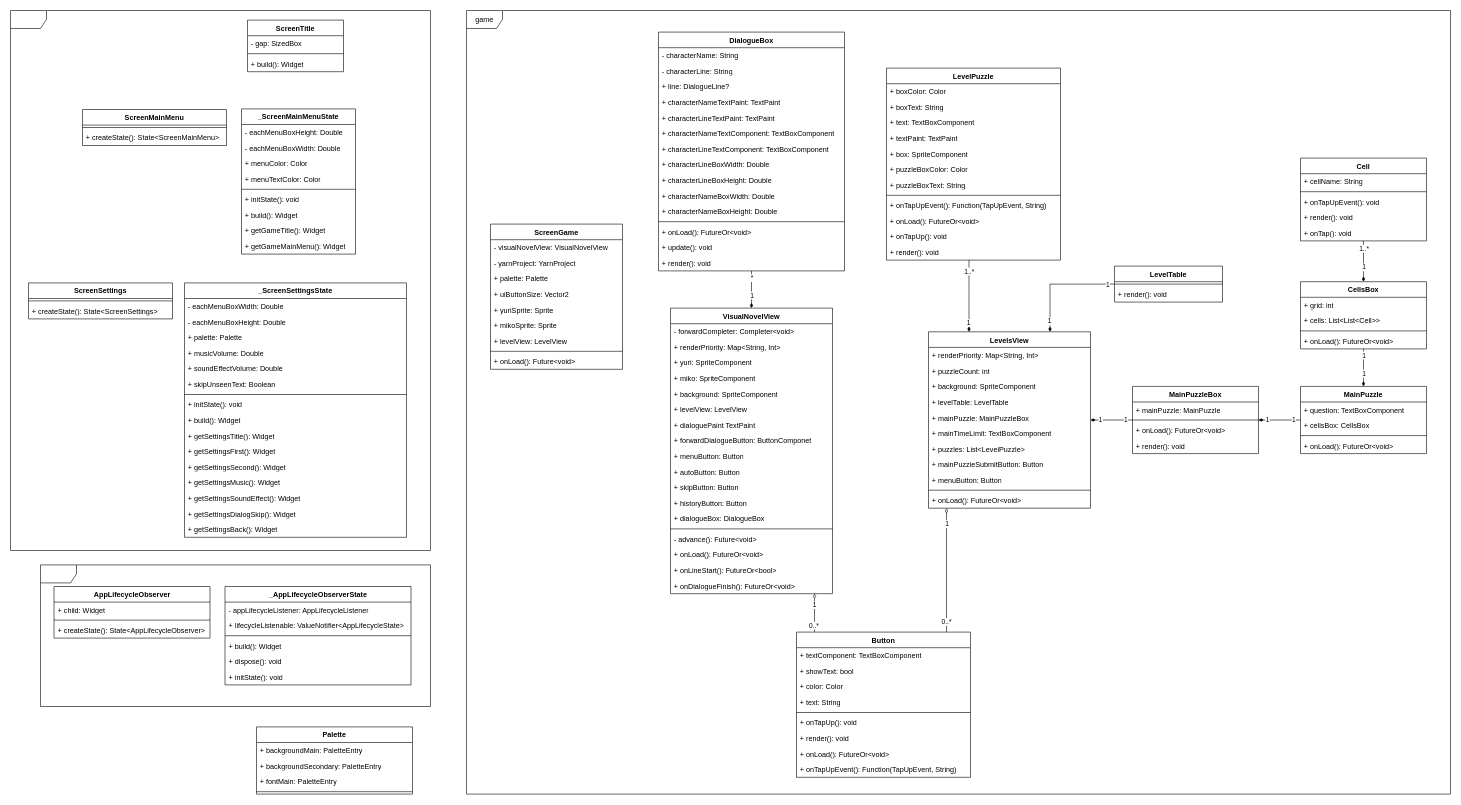
This 1461x805 diagram has some shape labels left out. Here are the shapes that lost their labels. From the top down, the centre of each, then its label:
At pixel 220 280: "widgets".
At pixel 235 635: "app_lifecycle".
